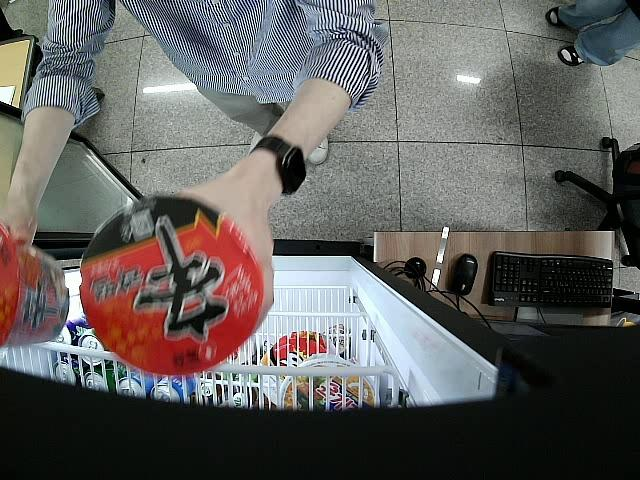00_hand: (168, 181, 275, 344), (0, 198, 39, 250)
01_shinRamen_L: (81, 196, 263, 377), (0, 219, 70, 351)
